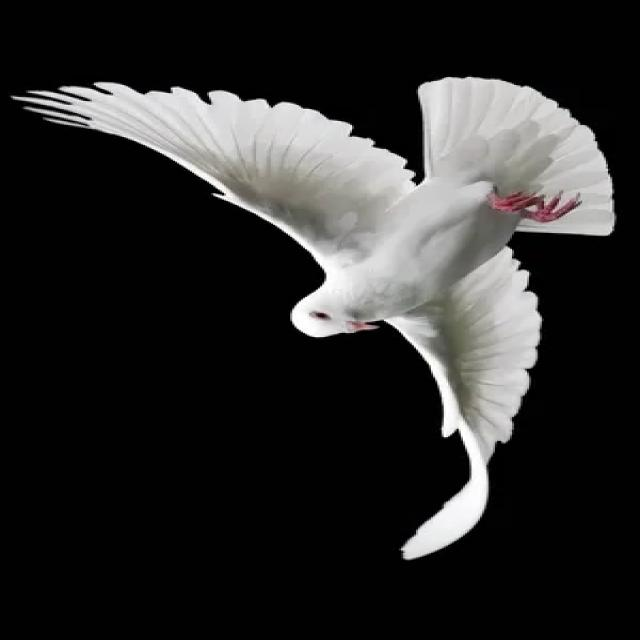pigeon: (24, 54, 634, 556)
